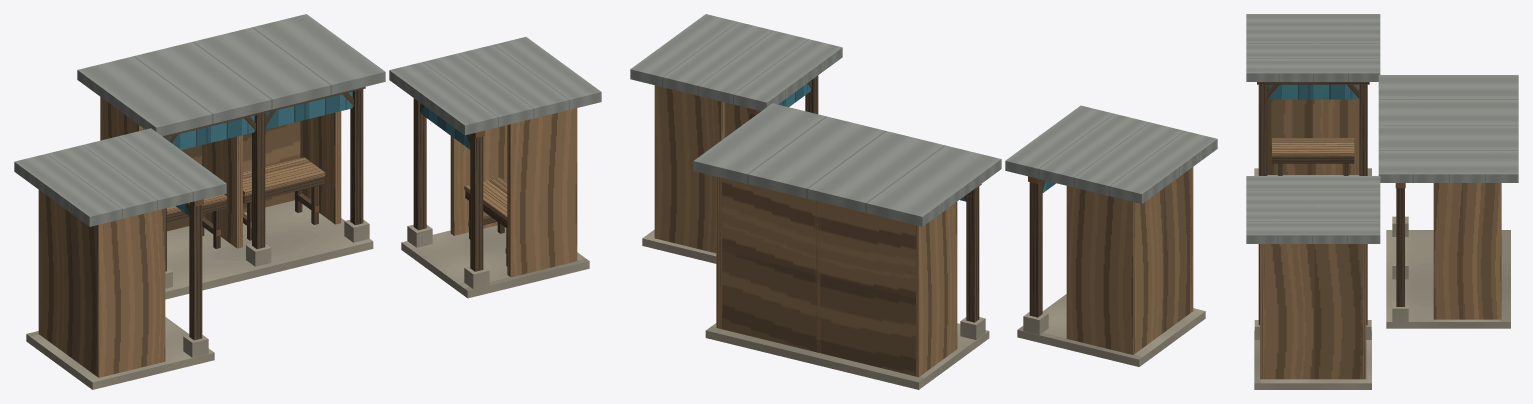
The model's file is baghdad.glb.
3 views of the same model, side by side, from view 1: azimuth 30°, elevation 25°; view 2: azimuth 150°, elevation 25°; view 3: azimuth 270°, elevation 25° (orthographic). The views are drawn at different scales.
Visible parts, largest first — view 1: baghdad; view 2: baghdad; view 3: baghdad.
Part boxes in pixels (x1=…): baghdad: x1=14, y1=14, x2=601, y2=389; baghdad: x1=630, y1=14, x2=1217, y2=389; baghdad: x1=1246, y1=14, x2=1518, y2=389.
Size of the model in its own units: 7.4 by 2.46 by 3.85.
Materials: 1 (1 with a texture image).
